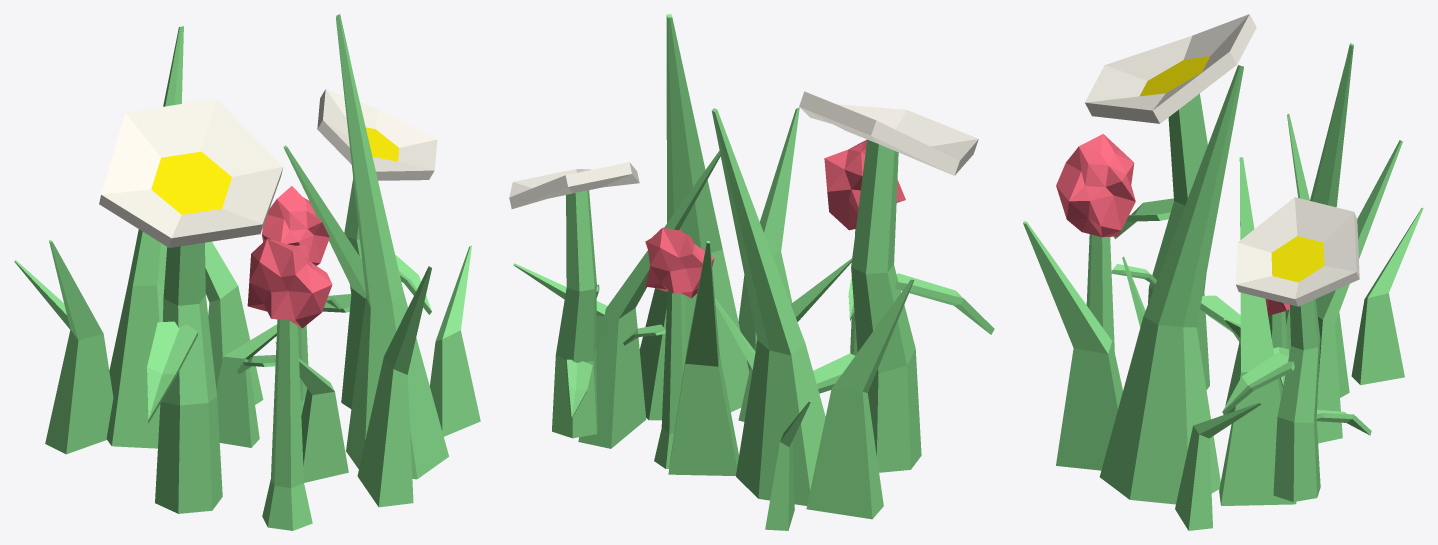
The model's file is pack_fleurs_lowpoly.fbx.
The picture shows the model from 3 angles, left to right: view 1: azimuth 30°, elevation 25°; view 2: azimuth 150°, elevation 25°; view 3: azimuth 270°, elevation 25°; orthographic projection. The views are drawn at different scales.
Visible parts, largest first — view 1: Cylinder.009, Cylinder.006, Cylinder.011, Cylinder.010, Cylinder.004, Icosphere.005, Cylinder.008, Cylinder.012, Icosphere.004, Cylinder.007, Cylinder.014, Cylinder.013; view 2: Cylinder.006, Cylinder.009, Cylinder.010, Cylinder.007, Cylinder.011, Cylinder.013, Icosphere.004, Cylinder.008, Icosphere.005; view 3: Cylinder.009, Cylinder.006, Cylinder.007, Cylinder.008, Cylinder.011, Cylinder.010, Icosphere.005, Cylinder.004, Cylinder.014, Cylinder.012, Cylinder.013.
Boxes of the visible parts, x1,y1,x2,y2 form: Cylinder.009: [275, 14, 480, 507]; Cylinder.006: [14, 26, 277, 454]; Cylinder.011: [99, 98, 283, 247]; Cylinder.010: [147, 242, 222, 513]; Cylinder.004: [237, 319, 312, 530]; Icosphere.005: [247, 238, 332, 328]; Cylinder.008: [317, 89, 437, 180]; Cylinder.012: [151, 151, 231, 214]; Icosphere.004: [261, 186, 329, 265]; Cylinder.007: [322, 178, 431, 314]; Cylinder.014: [365, 127, 399, 161]; Cylinder.013: [297, 297, 340, 415]; Cylinder.006: [668, 108, 914, 530]; Cylinder.009: [513, 14, 851, 448]; Cylinder.010: [813, 139, 994, 472]; Cylinder.007: [552, 190, 599, 438]; Cylinder.011: [799, 91, 978, 175]; Cylinder.013: [623, 290, 687, 468]; Icosphere.004: [645, 227, 714, 298]; Cylinder.008: [509, 162, 639, 208]; Icosphere.005: [824, 140, 905, 230]; Cylinder.009: [1023, 65, 1296, 530]; Cylinder.006: [1223, 43, 1423, 443]; Cylinder.007: [1222, 299, 1371, 501]; Cylinder.008: [1235, 197, 1359, 306]; Cylinder.011: [1085, 14, 1256, 123]; Cylinder.010: [1114, 93, 1240, 389]; Icosphere.005: [1056, 134, 1135, 237]; Cylinder.004: [1086, 234, 1156, 352]; Cylinder.014: [1271, 236, 1324, 282]; Cylinder.012: [1140, 56, 1210, 96]; Cylinder.013: [1268, 311, 1289, 397].
Size of the model in its own units: 1.06 by 0.9164 by 1.05.
